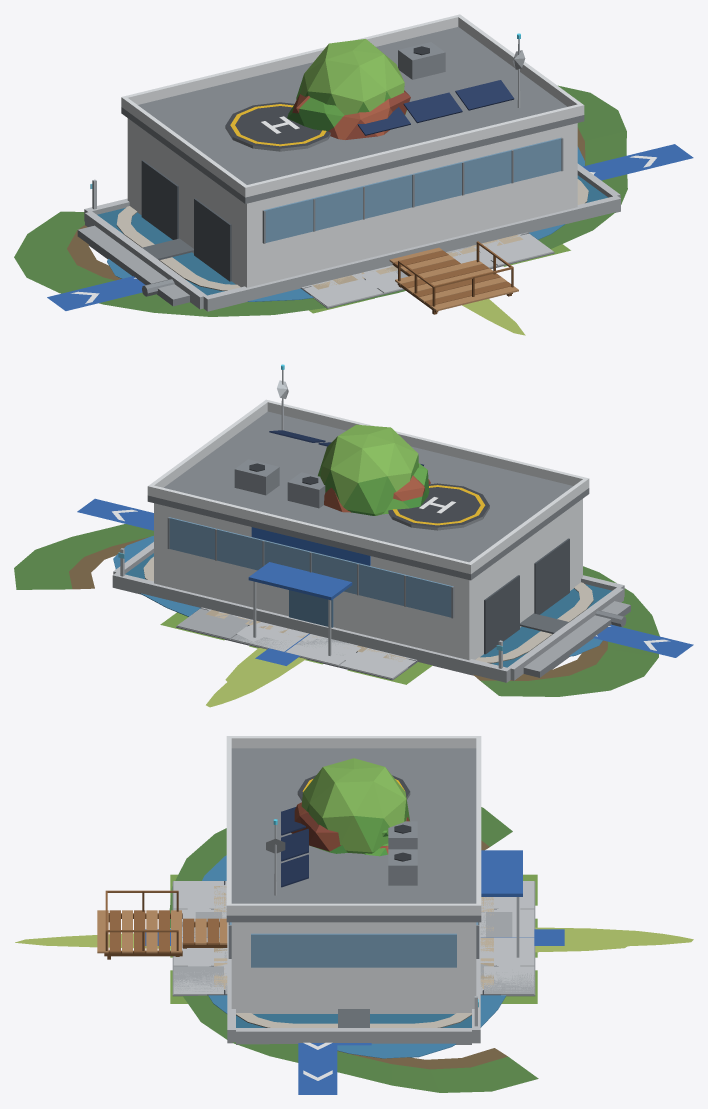
File: Park_Levels_Kit.fbx
The picture shows the model from 3 angles, top to bottom: view 1: azimuth 30°, elevation 25°; view 2: azimuth 150°, elevation 25°; view 3: azimuth 270°, elevation 25°; orthographic projection. The views are drawn at different scales.
Parts seen in each view (by area): view 1: Park_LV_ServiceHub, Park_LV_Pond_Edge_North, Park_LV_Basin, Park_LV_Tree_Linden, Park_LV_Boardwalk, Park_LV_HubApron_01, Park_LV_Lanes_L4_Main, Park_LV_Basin_Water, Park_LV_Tree_CopperBeech, Park_LV_Pond_Formal, Park_LV_Tree_Oak, Park_LV_Pond_Water_Natural (+2 smaller); view 2: Park_LV_ServiceHub, Park_LV_Pond_Edge_North, Park_LV_Basin, Park_LV_Tree_Linden, Park_LV_HubApron_01, Park_LV_Lanes_L4_Main, Park_LV_Basin_Water, Park_LV_Pond_Formal, Park_LV_Pond_Water_Natural, Park_LV_Meadow_AxisEast, Park_LV_Meadow_AxisWest, Park_LV_Tree_CopperBeech (+4 smaller); view 3: Park_LV_ServiceHub, Park_LV_Pond_Edge_North, Park_LV_Tree_Linden, Park_LV_HubApron_01, Park_LV_Basin, Park_LV_Boardwalk, Park_LV_Pond_Water_Natural, Park_LV_HubApron_02, Park_LV_Lanes_L4_Main, Park_LV_Meadow_AxisWest, Park_LV_Axis_NorthFar_01, Park_LV_Basin_Water (+7 smaller).
Part boxes in pixels (x1,y1,x2,y2): Park_LV_ServiceHub: [77, 14, 584, 306]; Park_LV_Pond_Edge_North: [14, 85, 627, 316]; Park_LV_Basin: [84, 163, 620, 311]; Park_LV_Tree_Linden: [296, 39, 404, 114]; Park_LV_Boardwalk: [389, 241, 518, 314]; Park_LV_HubApron_01: [301, 232, 554, 308]; Park_LV_Lanes_L4_Main: [47, 144, 693, 310]; Park_LV_Basin_Water: [97, 175, 607, 295]; Park_LV_Tree_CopperBeech: [292, 90, 410, 139]; Park_LV_Pond_Formal: [116, 179, 588, 290]; Park_LV_Tree_Oak: [287, 97, 406, 131]; Park_LV_Pond_Water_Natural: [107, 146, 584, 301]; Park_LV_ServiceHub: [147, 364, 630, 677]; Park_LV_Pond_Edge_North: [14, 524, 659, 696]; Park_LV_Basin: [112, 542, 626, 682]; Park_LV_Tree_Linden: [318, 424, 418, 515]; Park_LV_HubApron_01: [176, 607, 417, 680]; Park_LV_Lanes_L4_Main: [77, 498, 693, 657]; Park_LV_Basin_Water: [125, 553, 611, 667]; Park_LV_Pond_Formal: [143, 556, 593, 663]; Park_LV_Pond_Water_Natural: [113, 536, 602, 656]; Park_LV_Meadow_AxisEast: [225, 647, 302, 682]; Park_LV_Meadow_AxisWest: [206, 658, 305, 707]; Park_LV_Tree_CopperBeech: [324, 475, 430, 512]; Park_LV_ServiceHub: [226, 736, 522, 1013]; Park_LV_Pond_Edge_North: [169, 807, 538, 1092]; Park_LV_Tree_Linden: [301, 758, 409, 853]; Park_LV_HubApron_01: [172, 881, 535, 996]; Park_LV_Basin: [227, 922, 480, 1044]; Park_LV_Boardwalk: [97, 890, 227, 959]; Park_LV_Pond_Water_Natural: [202, 855, 506, 1058]; Park_LV_HubApron_02: [173, 881, 534, 992]; Park_LV_Lanes_L4_Main: [298, 1042, 337, 1094]; Park_LV_Meadow_AxisWest: [15, 927, 693, 948]; Park_LV_Axis_NorthFar_01: [195, 912, 512, 962]; Park_LV_Basin_Water: [236, 1014, 471, 1027].
Size of what is drawn, in the model's own units: 30.4 by 8.31 by 27.77.
